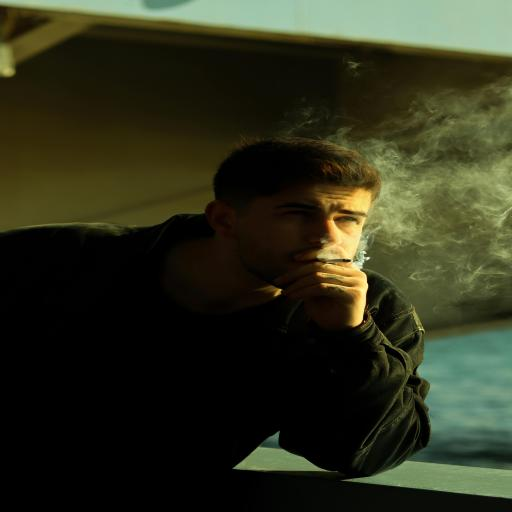terdeteksi merokok: (268, 188, 380, 290)
